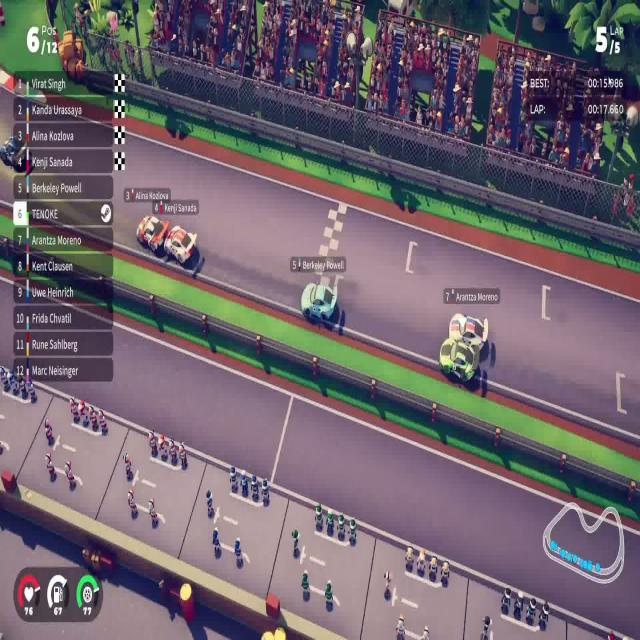car: (438, 337, 480, 380), (300, 281, 338, 324), (450, 310, 488, 350), (164, 224, 198, 266), (134, 218, 167, 253)
